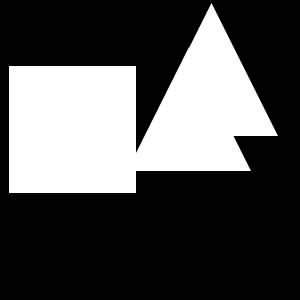circle: (9, 66, 136, 193)
triangle: (145, 3, 278, 136), (127, 47, 251, 171), (62, 125, 121, 184)
